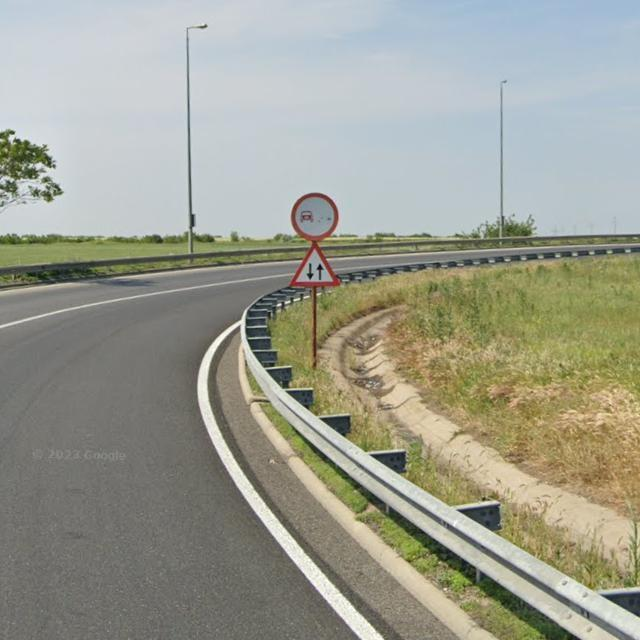forb_overtake: (290, 193, 340, 243)
